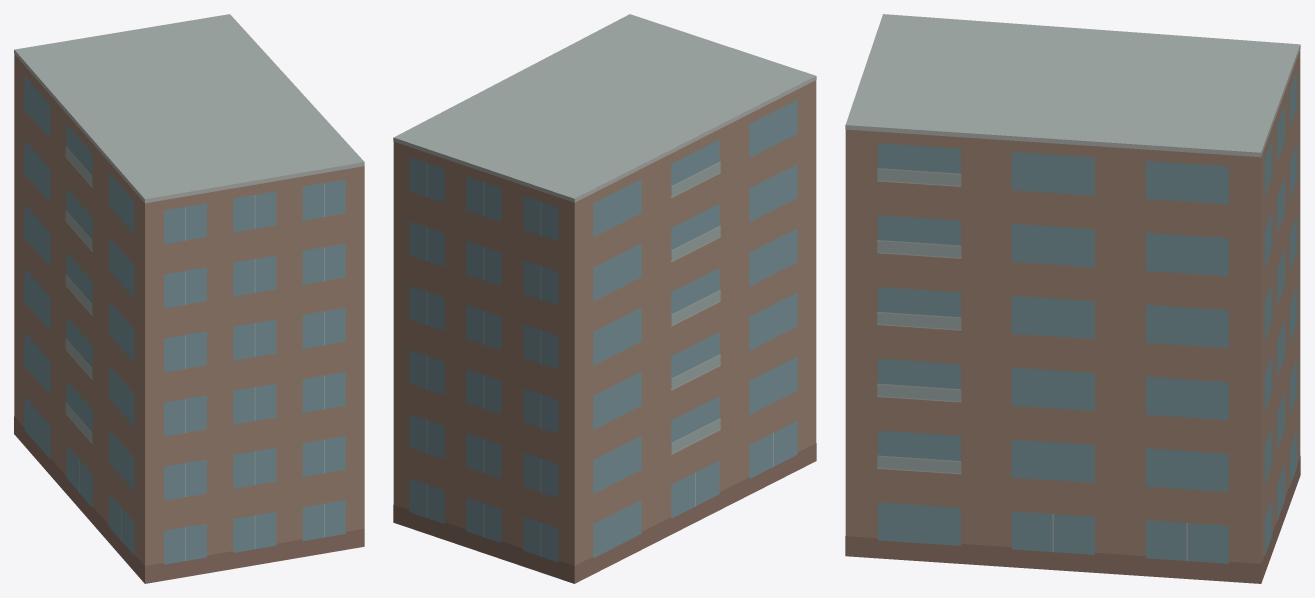
The model's file is survey-upis-32489234.glb.
3 renders of one model, left to right at view 1: azimuth 30°, elevation 25°; view 2: azimuth 150°, elevation 25°; view 3: azimuth 270°, elevation 25°, orthographic. The views are drawn at different scales.
Parts seen in each view (by area): view 1: survey-upis-32489234.tmp; view 2: survey-upis-32489234.tmp; view 3: survey-upis-32489234.tmp.
Part boxes in pixels (<box>): survey-upis-32489234.tmp: <box>14,14,364,583</box>; survey-upis-32489234.tmp: <box>393,14,816,583</box>; survey-upis-32489234.tmp: <box>845,14,1300,583</box>.
Size of the model in its own units: 16.23 by 23.5 by 22.49.
